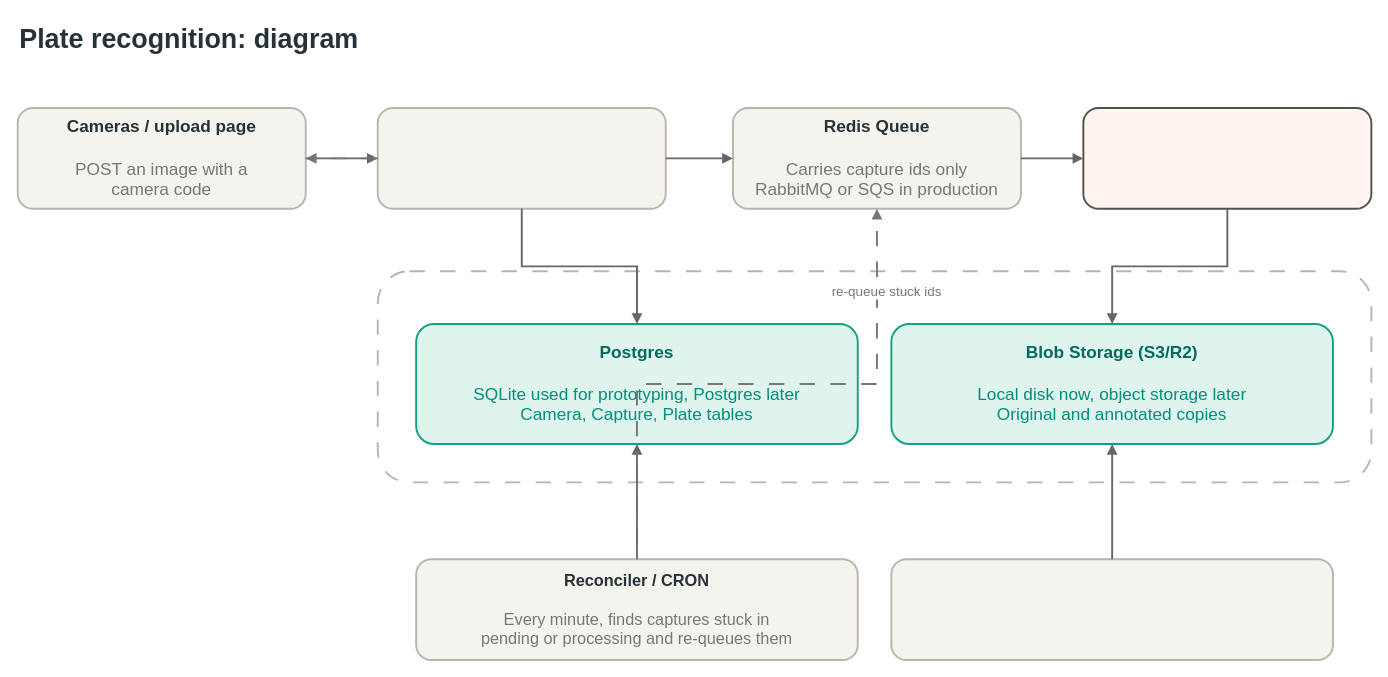
Some shapes in this 1388 by 677 pixel diagram are drawn without their labels. The centre of each missing label's shape, as x and y in pixels:
"Celery Worker Loads YOLO + OCR once Claims a row, runs recognize()" goes at [1227,158].
"Django API validates, saves the image and a pending row" goes at [521,158].
"Sweeper Hourly, deletes images past their retention date and keeps the DB row" goes at [1111,609].
